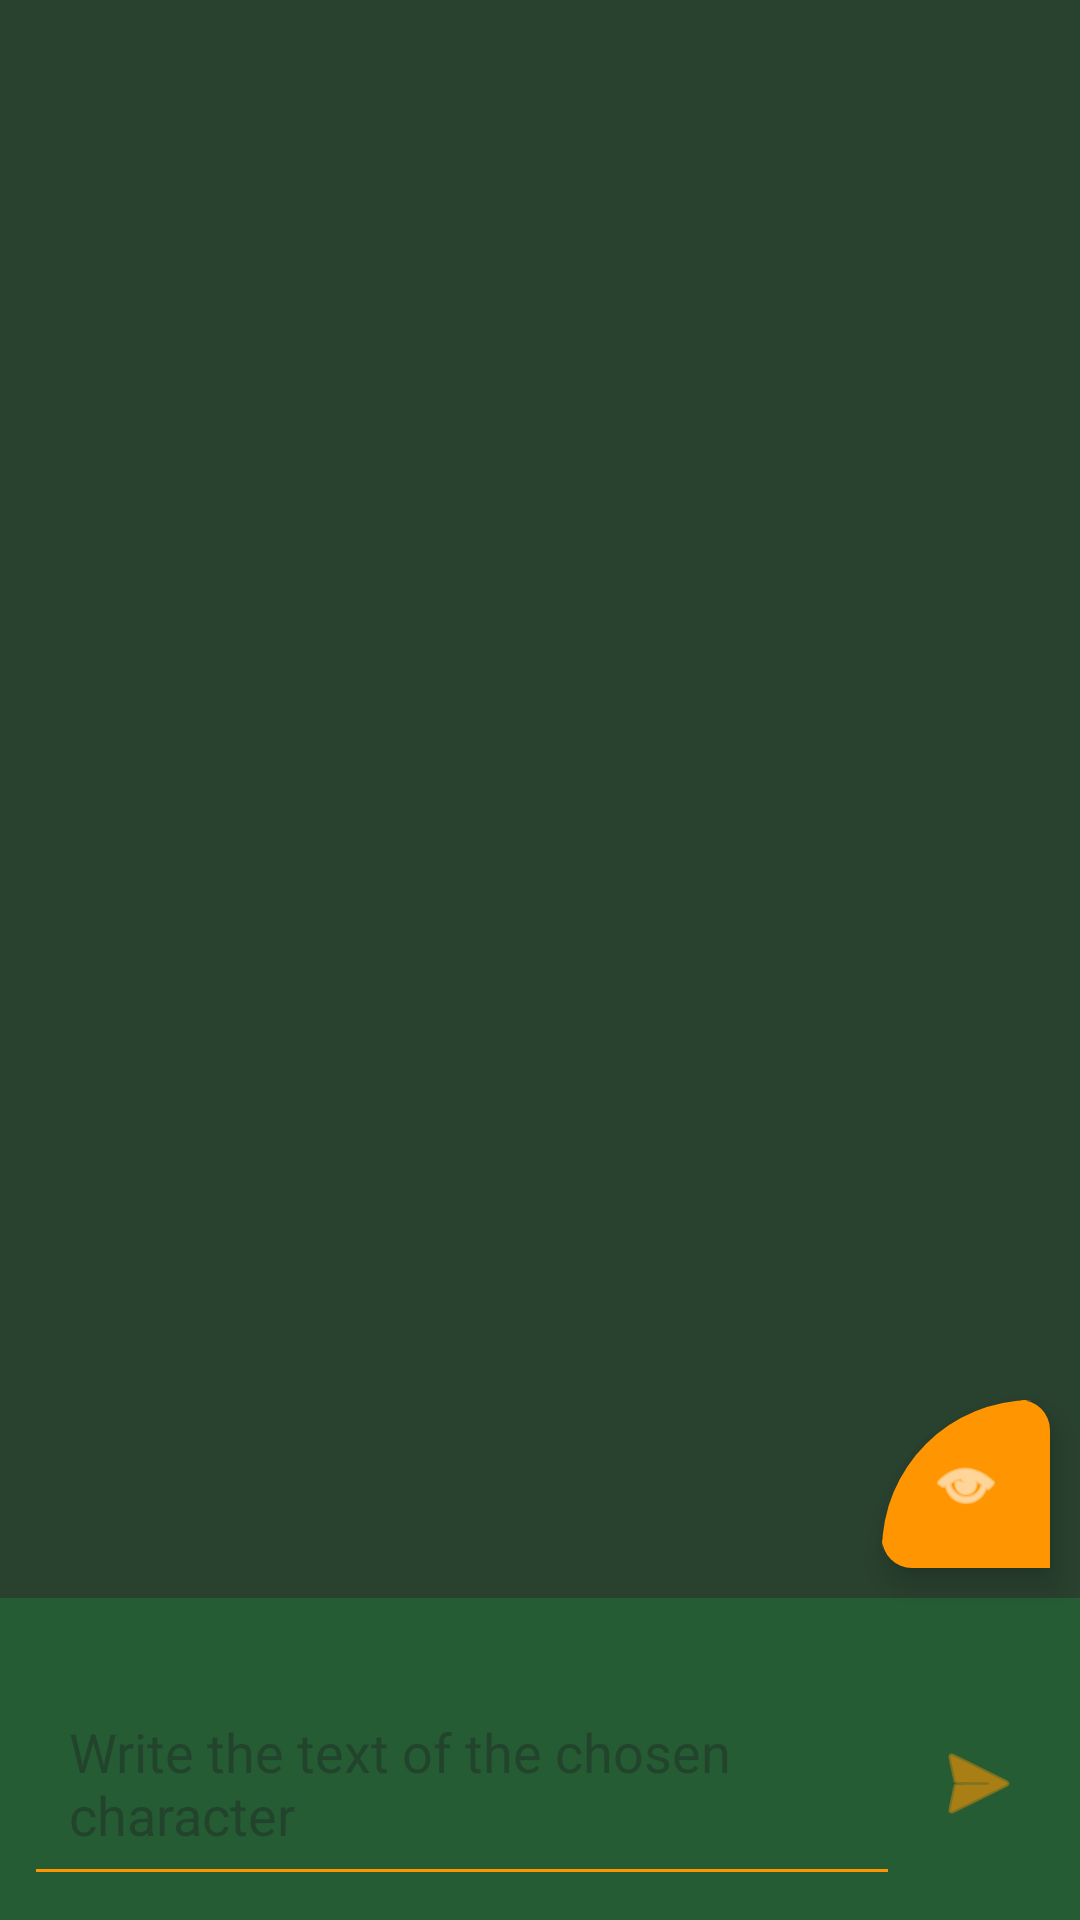

Icon bounding boxes for this 1080px×1920px phone screenshot, format {"x1": x1, "y1": y1, "x2": x2, "y2": y2}:
Send Message: {"x1": 948, "y1": 1753, "x2": 1010, "y2": 1814}
